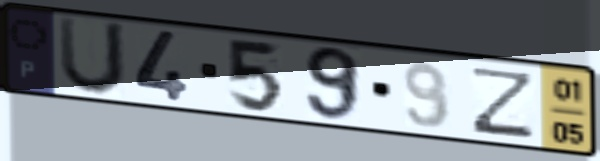4: (130, 27, 196, 105)
5: (224, 36, 288, 115)
9: (301, 44, 365, 125), (400, 58, 455, 131)
U: (55, 13, 131, 99)
Z: (468, 65, 539, 141)
